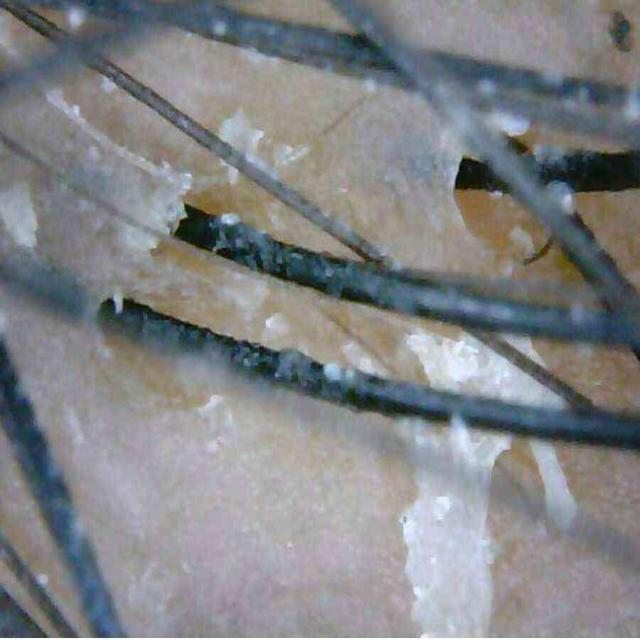d: (400, 419, 511, 637), (406, 329, 564, 408), (529, 440, 576, 530), (219, 109, 264, 158), (488, 111, 530, 137), (506, 337, 544, 364), (229, 166, 239, 184)
